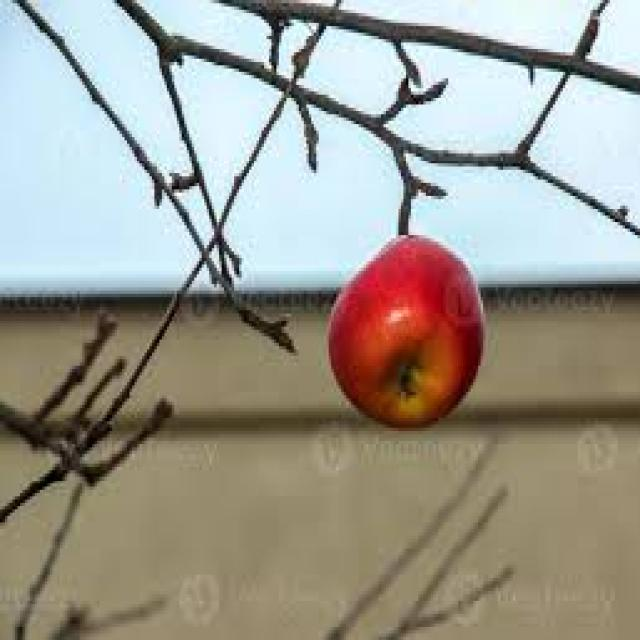Red Apple: (325, 235, 483, 435)
